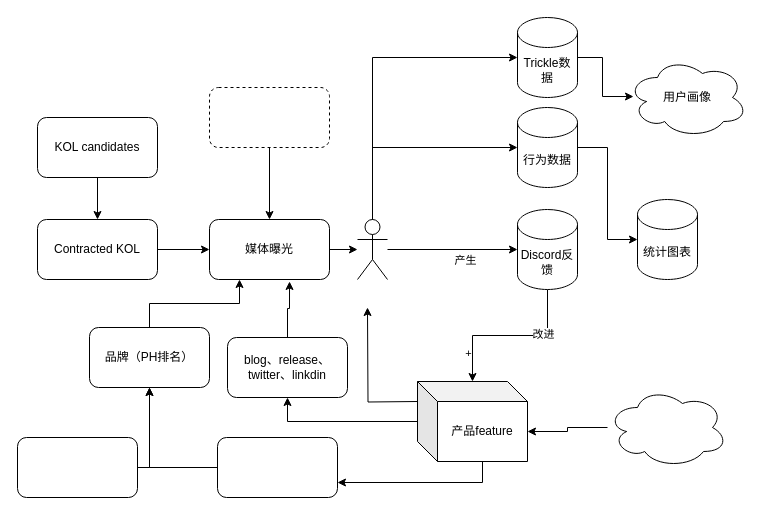
This 765x515 diagram has some shape labels left out. The centre of each missing label's shape, as x and y in pixels:
Users: [372,249]
产品发布: [277,467]
创意: [667,427]
社区经营: [77,467]
软文: [269,117]
